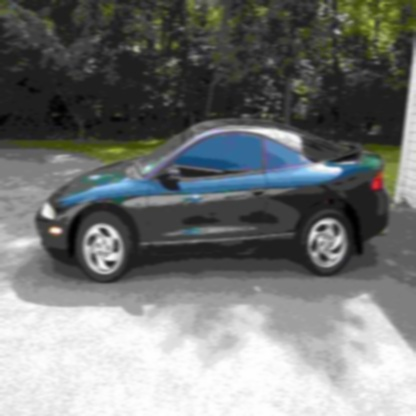Vehicle: (32, 121, 391, 280)
